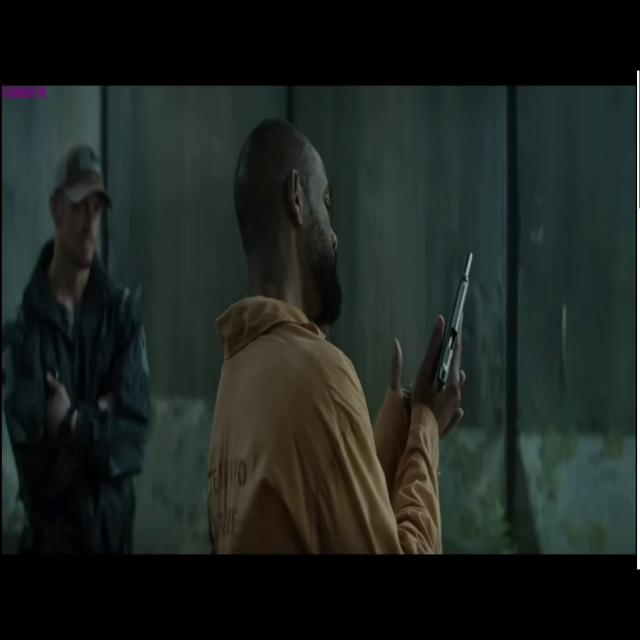weapons: (415, 241, 480, 423)
